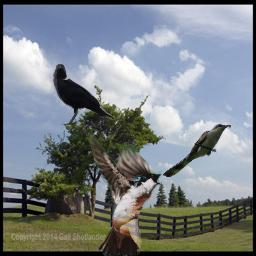Crow: (52, 63, 115, 125)
Cuckoo: (162, 123, 231, 177)
Swallow: (85, 128, 162, 256)
